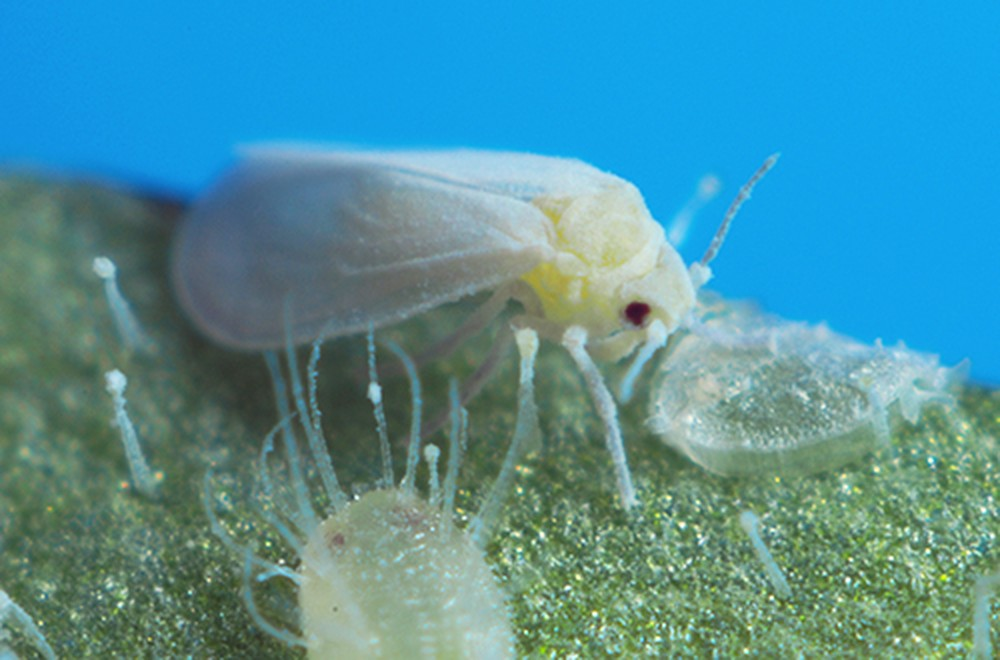Mosca Blanca: (160, 120, 713, 520)
